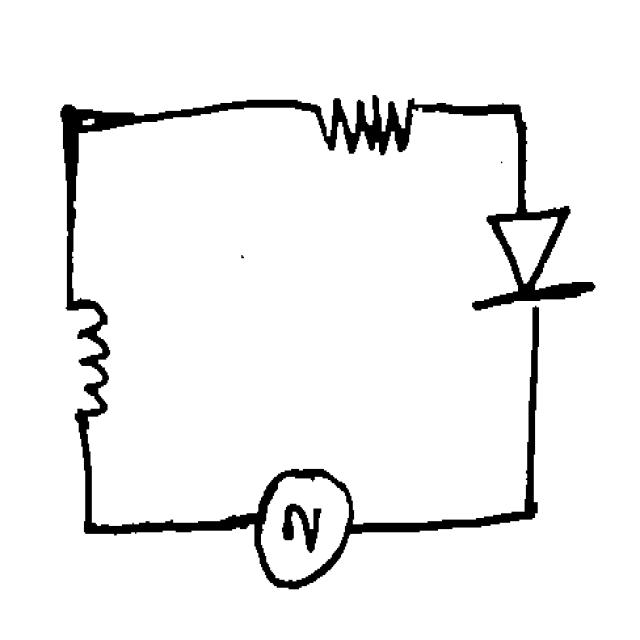ac: (243, 449, 362, 597)
diode: (468, 187, 602, 318)
inductor: (47, 270, 126, 440)
resistor: (302, 81, 425, 166)
